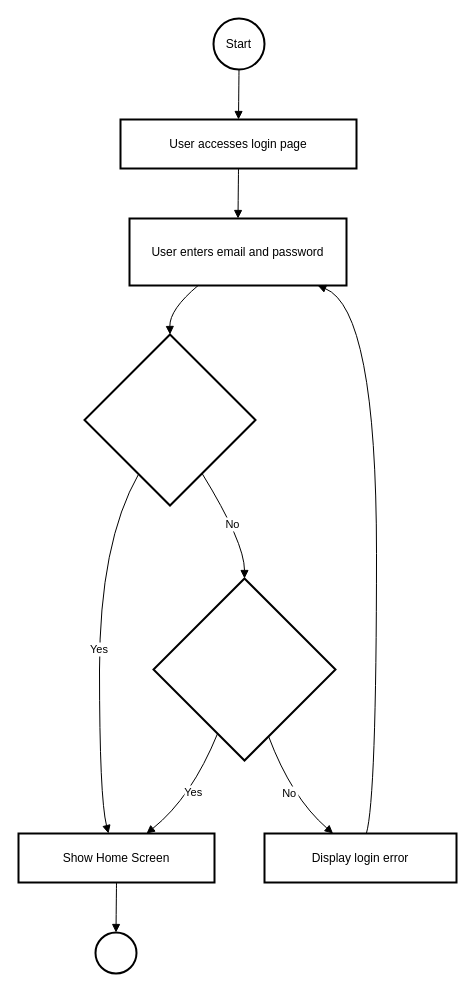
The diagram is 474 pixels wide and 991 high, and some of its shapes have lost their labels. The shapes that lost their labels are listed below. From the top down, each one's box as (x1, y1, x2, y2) in pixels, then its label:
(83, 333, 256, 506): Is user logged in?
(152, 577, 336, 761): Is login successful?
(94, 931, 137, 974): End
